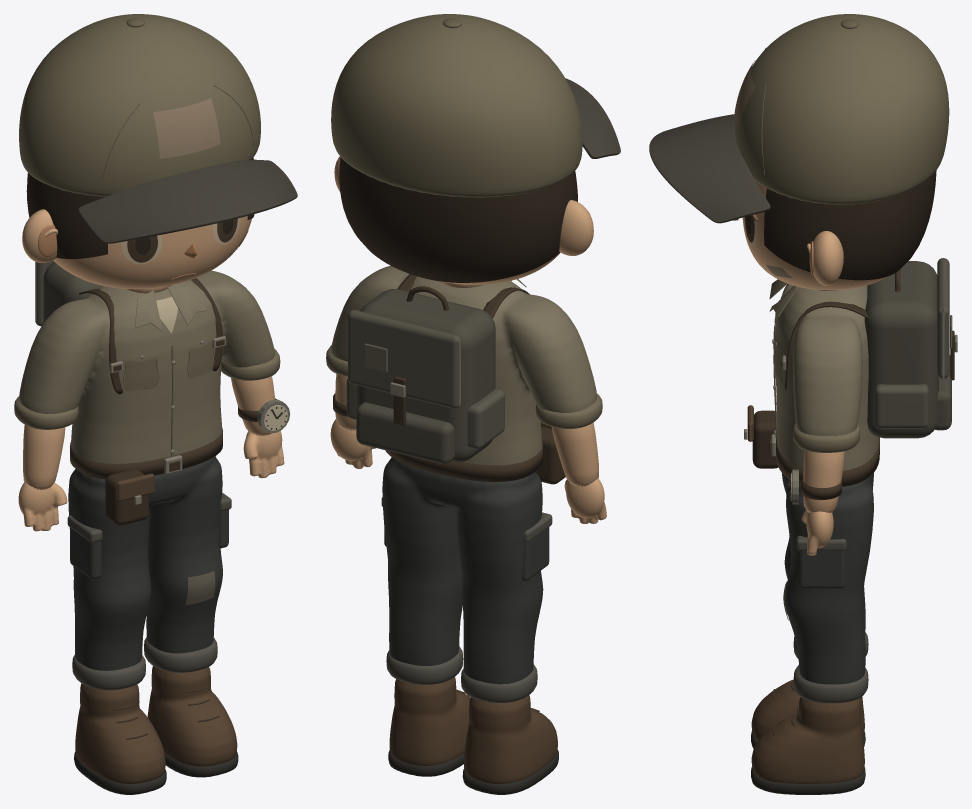
Rendered from StylizedSurvivor.glb.
3 renders of one model, left to right at view 1: azimuth 30°, elevation 25°; view 2: azimuth 150°, elevation 25°; view 3: azimuth 270°, elevation 25°, orthographic. The views are drawn at different scales.
Parts seen in each view (by area): view 1: Stylized_Cap, Stylized_Shirt, Stylized_Trousers, Stylized_Boots, Stylized_Head, Stylized_Backpack, Stylized_Body, Stylized_Hair, Stylized_Hands, Stylized_BeltPouch, Stylized_Belt, Stylized_Face (+1 smaller); view 2: Stylized_Cap, Stylized_Trousers, Stylized_Backpack, Stylized_Hair, Stylized_Shirt, Stylized_Boots, Stylized_Body, Stylized_Hands, Stylized_Belt, Stylized_Head, Stylized_BeltPouch; view 3: Stylized_Cap, Stylized_Shirt, Stylized_Trousers, Stylized_Backpack, Stylized_Boots, Stylized_Hair, Stylized_Head, Stylized_Body, Stylized_BeltPouch, Stylized_Belt, Stylized_Hands, Stylized_Watch.
Part boxes in pixels (left/top/right/bottom): Stylized_Cap: left=19, top=14, right=297, bottom=243; Stylized_Shirt: left=14, top=270, right=280, bottom=463; Stylized_Trousers: left=67, top=456, right=231, bottom=690; Stylized_Boots: left=74, top=666, right=238, bottom=794; Stylized_Head: left=22, top=159, right=256, bottom=289; Stylized_Backpack: left=35, top=260, right=225, bottom=394; Stylized_Body: left=23, top=285, right=275, bottom=489; Stylized_Hair: left=26, top=157, right=254, bottom=258; Stylized_Hands: left=18, top=431, right=284, bottom=531; Stylized_BeltPouch: left=105, top=469, right=154, bottom=525; Stylized_Belt: left=70, top=427, right=222, bottom=479; Stylized_Face: left=121, top=218, right=248, bottom=279; Stylized_Cap: left=331, top=14, right=620, bottom=197; Stylized_Trousers: left=381, top=457, right=552, bottom=702; Stylized_Backpack: left=346, top=274, right=529, bottom=464; Stylized_Hair: left=339, top=157, right=577, bottom=282; Stylized_Shirt: left=326, top=265, right=602, bottom=465; Stylized_Boots: left=388, top=677, right=558, bottom=794; Stylized_Body: left=335, top=281, right=598, bottom=486; Stylized_Hands: left=330, top=419, right=606, bottom=523; Stylized_Belt: left=385, top=442, right=542, bottom=481; Stylized_Head: left=334, top=156, right=593, bottom=284; Stylized_BeltPouch: left=536, top=422, right=565, bottom=484; Stylized_Cap: left=649, top=14, right=949, bottom=223; Stylized_Shirt: left=769, top=279, right=878, bottom=470; Stylized_Trousers: left=782, top=473, right=873, bottom=703; Stylized_Backpack: left=781, top=258, right=957, bottom=438; Stylized_Boots: left=751, top=679, right=865, bottom=794; Stylized_Hair: left=764, top=170, right=936, bottom=280; Stylized_Head: left=742, top=181, right=888, bottom=290; Stylized_Body: left=803, top=289, right=844, bottom=512; Stylized_BeltPouch: left=744, top=405, right=778, bottom=468; Stylized_Belt: left=769, top=434, right=879, bottom=486; Stylized_Hands: left=801, top=510, right=833, bottom=555; Stylized_Watch: left=788, top=469, right=841, bottom=504.
Size of the model in its own units: 0.6707 by 1.79 by 0.6758.
